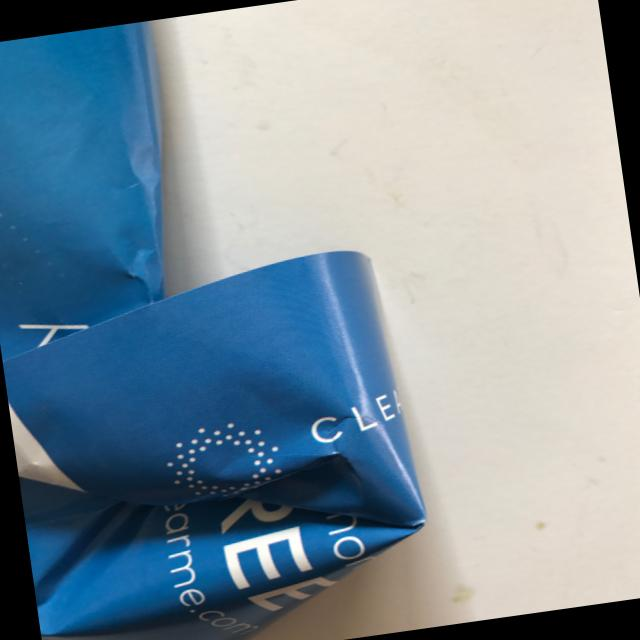paper: (0, 0, 640, 640), (0, 242, 442, 640)
